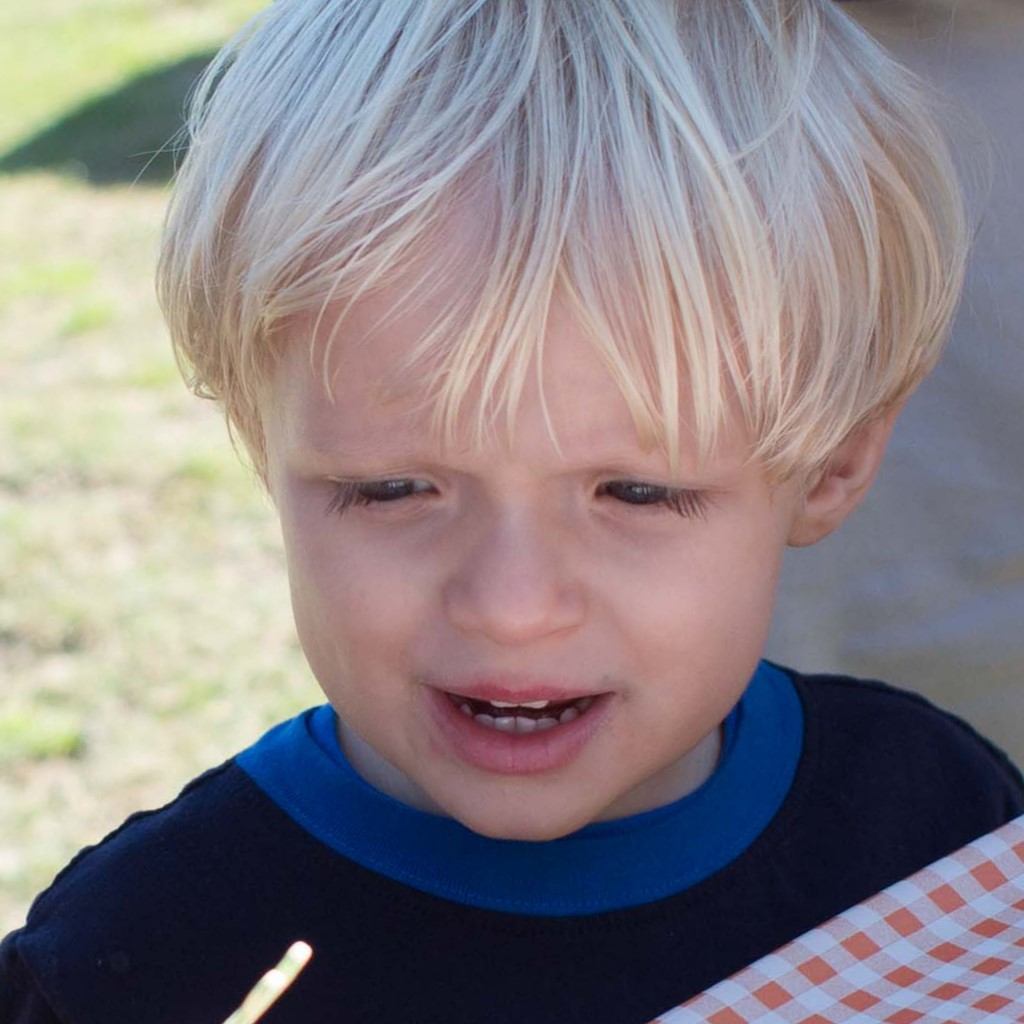sin_mascara: (246, 137, 803, 851)
